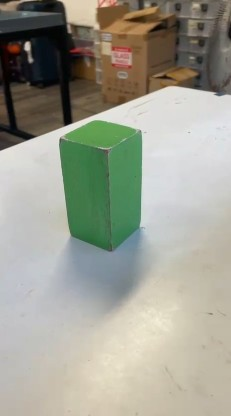green: (56, 123, 135, 251)
